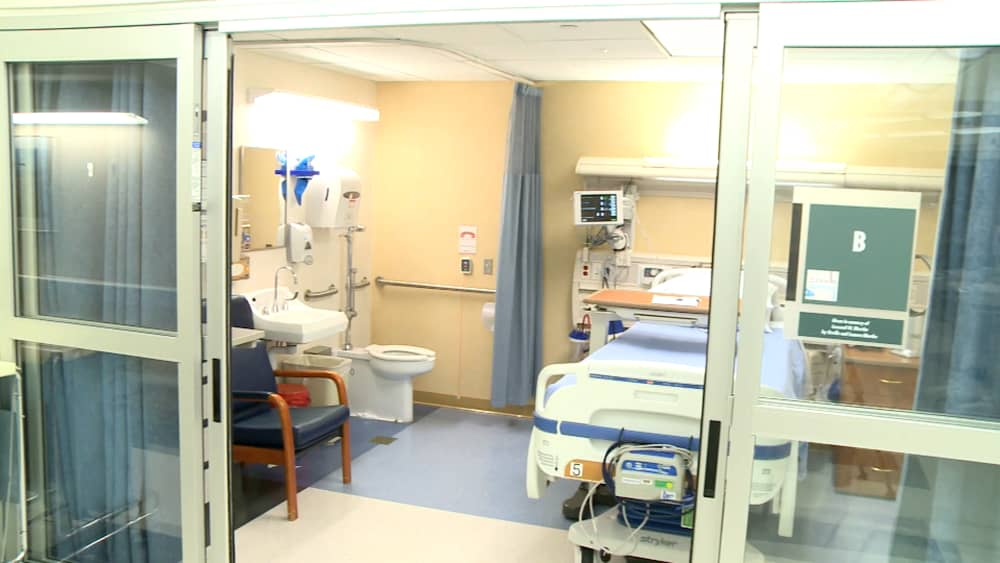bedside_monitor: (569, 187, 632, 232)
bedside_table: (829, 339, 929, 503)
chair: (196, 293, 353, 522)
curtain: (35, 68, 177, 544), (909, 51, 997, 561), (488, 82, 537, 409)
dispenser: (306, 168, 362, 230), (289, 225, 319, 262)
faucet: (262, 264, 301, 316)
foot_board: (514, 357, 808, 542)
handle: (868, 462, 899, 480), (877, 371, 908, 389)
hospital_bed: (523, 251, 813, 563)
overbed_table: (576, 280, 769, 342)
restroom_assist_bar: (373, 272, 505, 302), (301, 283, 340, 303), (343, 276, 371, 290)
sink: (239, 291, 350, 343)
toilet: (335, 342, 438, 423)
toilet_handle: (341, 220, 374, 248)
